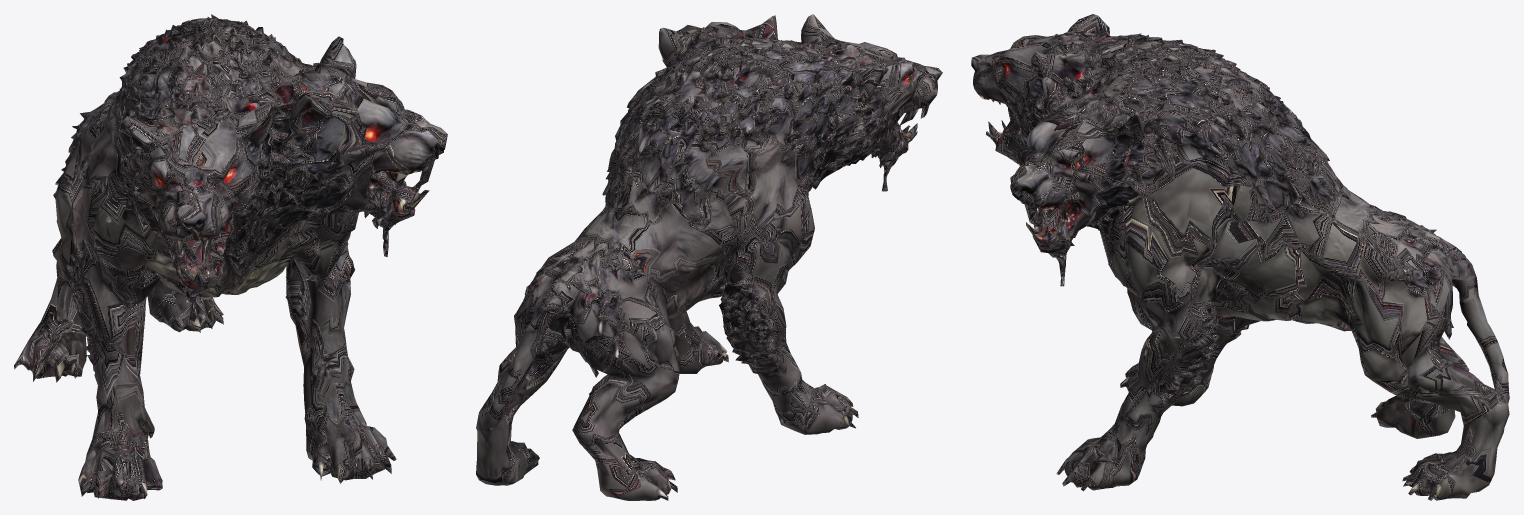
Rendered from death-dog.glb.
The picture shows the model from 3 angles, left to right: view 1: azimuth 30°, elevation 25°; view 2: azimuth 150°, elevation 25°; view 3: azimuth 270°, elevation 25°; orthographic projection. The views are drawn at different scales.
Bounding box in the file's own units: 1.08 × 1.52 × 1.89.
1 material, 1 textured.
